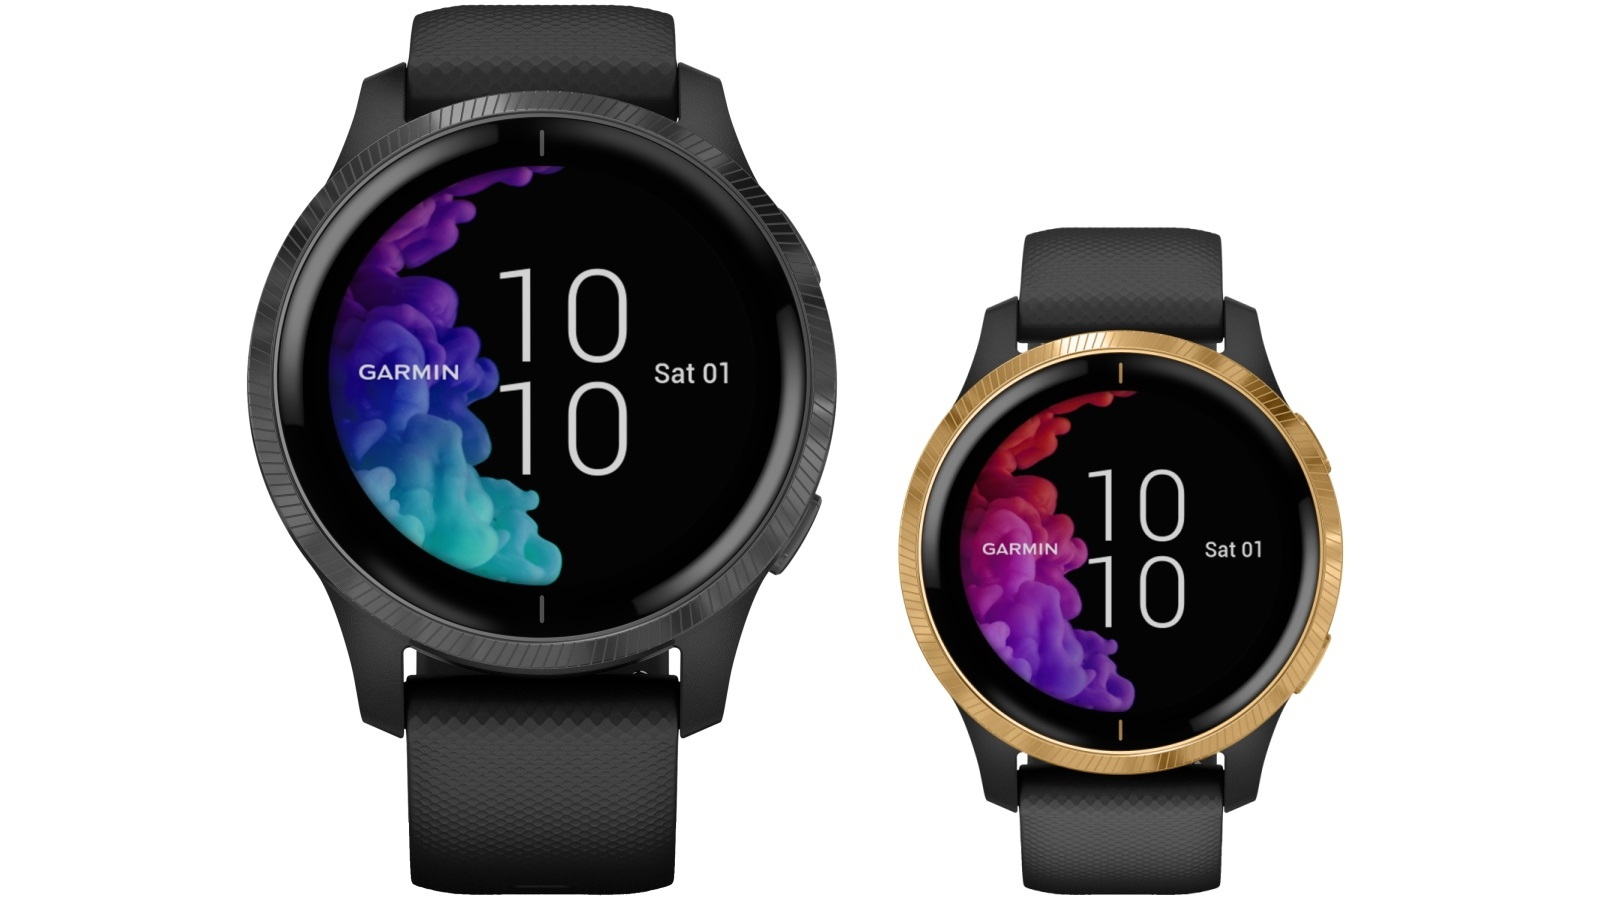Smart Watch: (174, 3, 854, 762)
